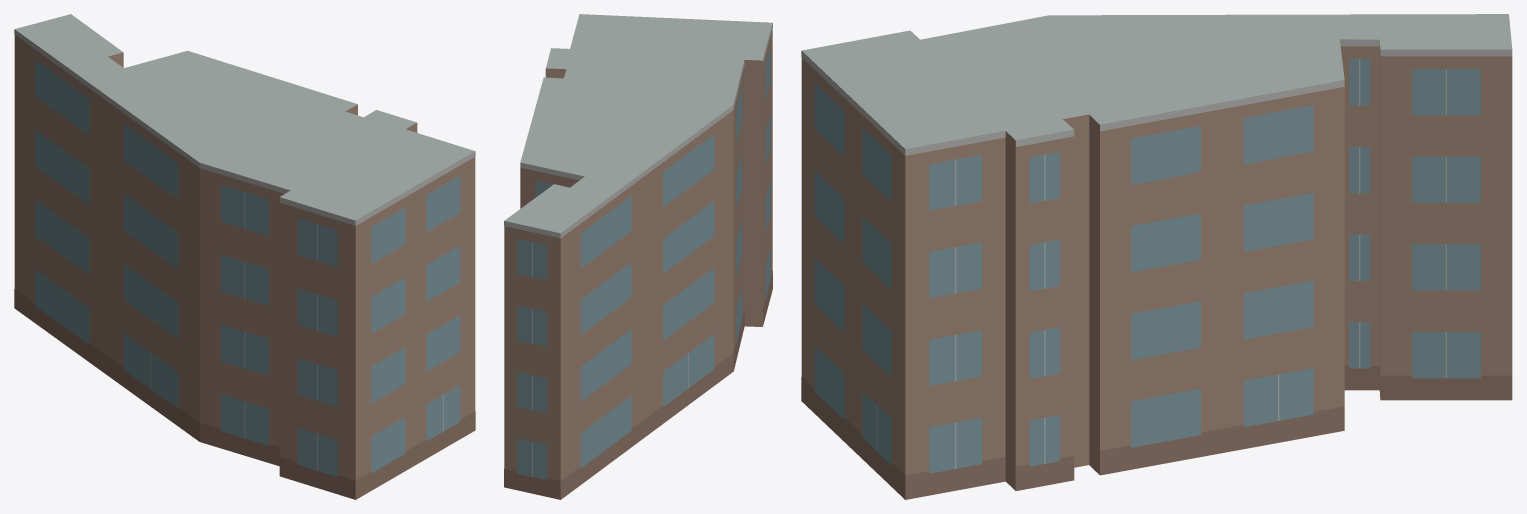
Rendered from survey-upis-32666111.glb.
3 views of the same model, side by side, from view 1: azimuth 30°, elevation 25°; view 2: azimuth 150°, elevation 25°; view 3: azimuth 270°, elevation 25° (orthographic). The views are drawn at different scales.
Parts seen in each view (by area): view 1: survey-upis-32666111.tmp; view 2: survey-upis-32666111.tmp; view 3: survey-upis-32666111.tmp.
Part boxes in pixels (bbox=[...]): survey-upis-32666111.tmp: bbox=[14, 14, 475, 499]; survey-upis-32666111.tmp: bbox=[504, 14, 772, 499]; survey-upis-32666111.tmp: bbox=[801, 14, 1512, 499].
Bounding box in the file's own units: 10.6 × 12.8 × 23.53.
